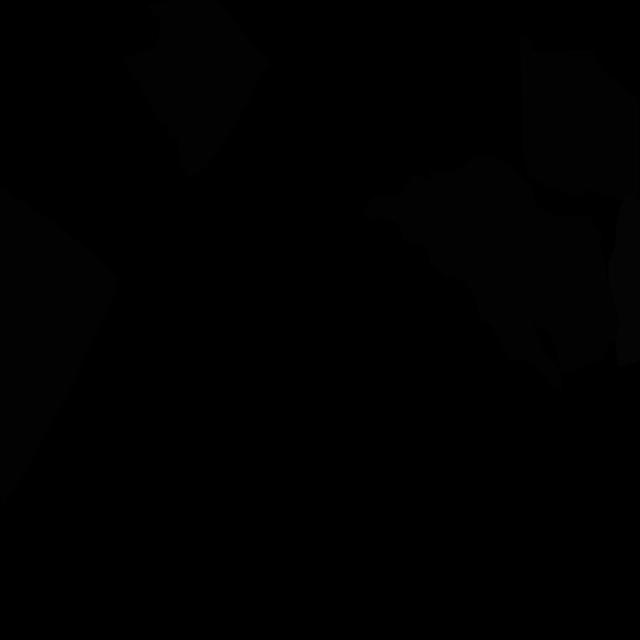cardboard: (362, 155, 620, 391), (0, 187, 116, 509), (123, 0, 268, 177), (520, 36, 639, 201)
soft_plastic: (608, 196, 640, 367)
